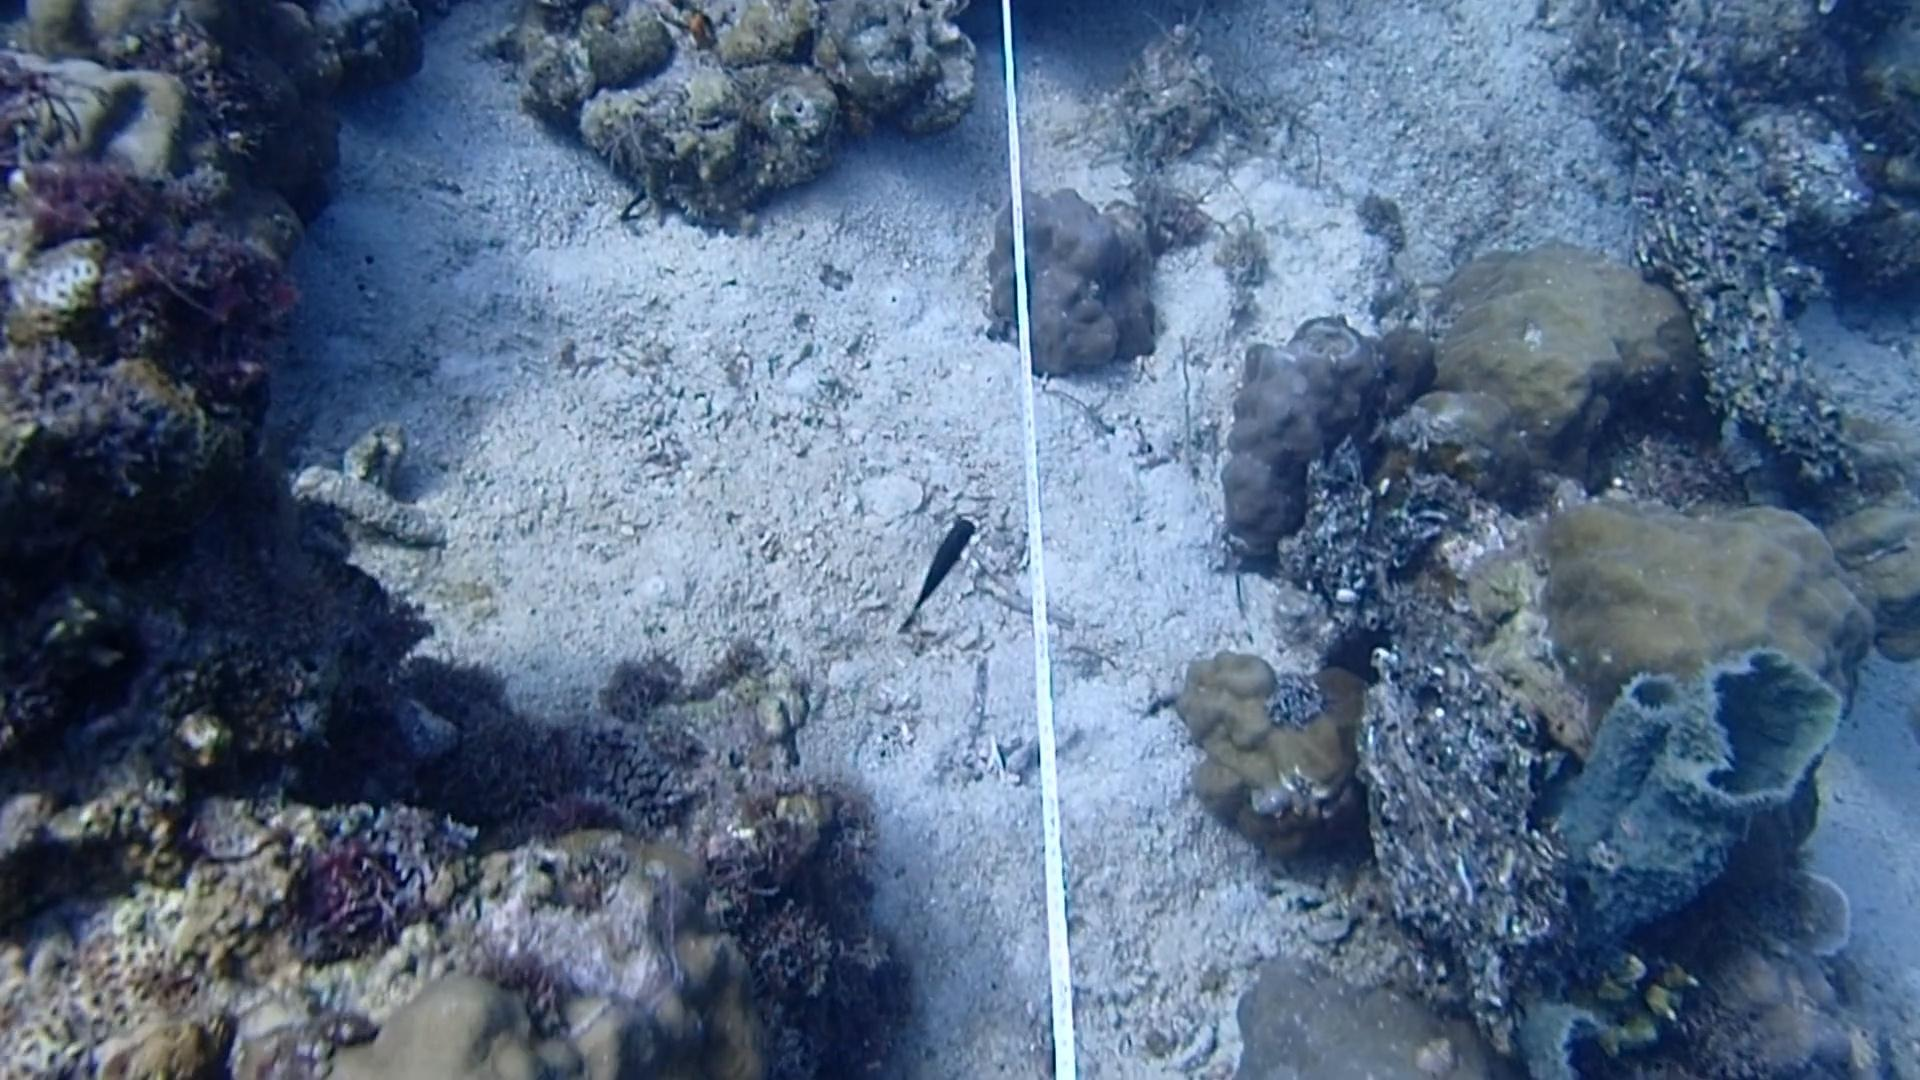Dark Fish: (877, 501, 1000, 628)
